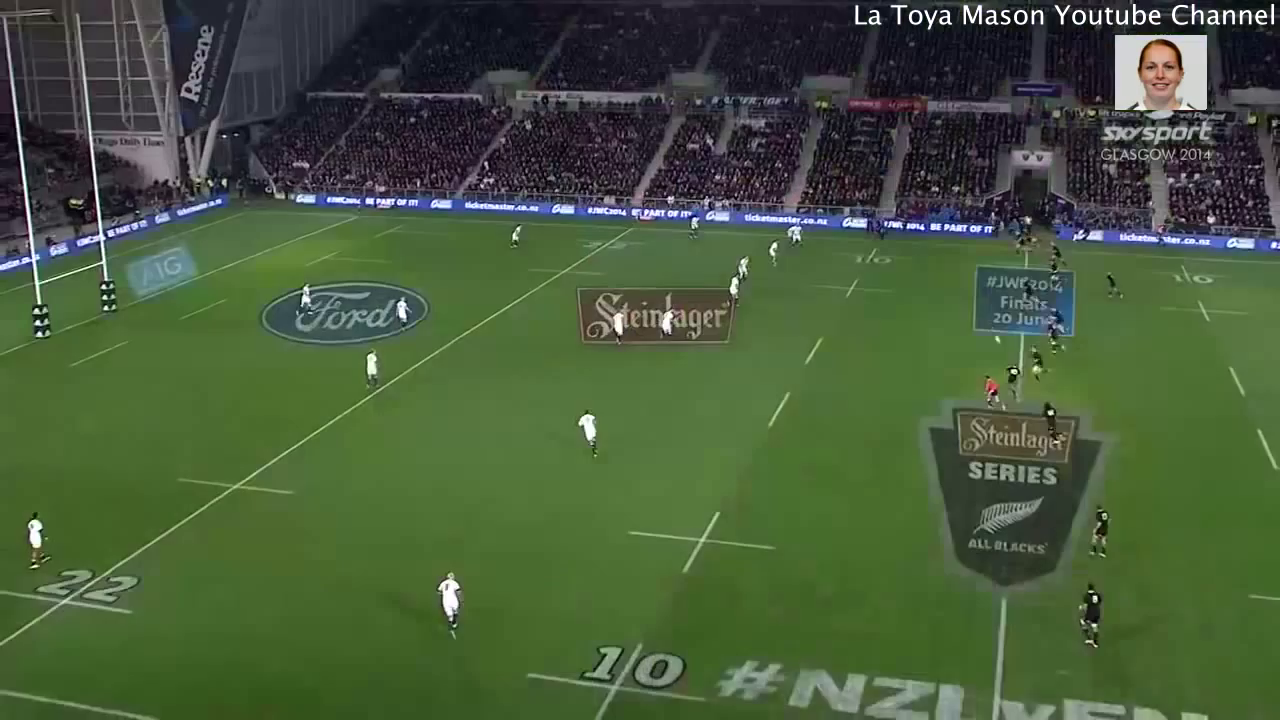10_metre: (522, 636, 706, 720), (622, 508, 774, 574), (1153, 298, 1253, 324), (1145, 262, 1233, 288), (829, 244, 912, 270), (809, 277, 898, 297)
ball: (989, 331, 1004, 349)
player: (434, 567, 475, 647), (1074, 581, 1108, 653), (20, 505, 55, 573), (570, 405, 610, 464), (1084, 499, 1117, 563), (360, 345, 389, 392), (387, 292, 419, 333), (1036, 402, 1065, 446), (1026, 342, 1051, 387), (980, 368, 1004, 413), (1100, 269, 1127, 303), (291, 276, 316, 312), (1041, 320, 1066, 355), (1002, 362, 1022, 398), (1046, 240, 1069, 269), (507, 220, 526, 252), (1009, 231, 1032, 257), (764, 236, 783, 267), (732, 253, 753, 281), (726, 273, 742, 308), (611, 311, 625, 348), (1019, 280, 1036, 306), (1048, 305, 1065, 329), (687, 213, 700, 240), (660, 306, 671, 337), (794, 222, 805, 248), (1047, 259, 1058, 281), (784, 220, 794, 238)
post: (7, 115, 120, 347)
